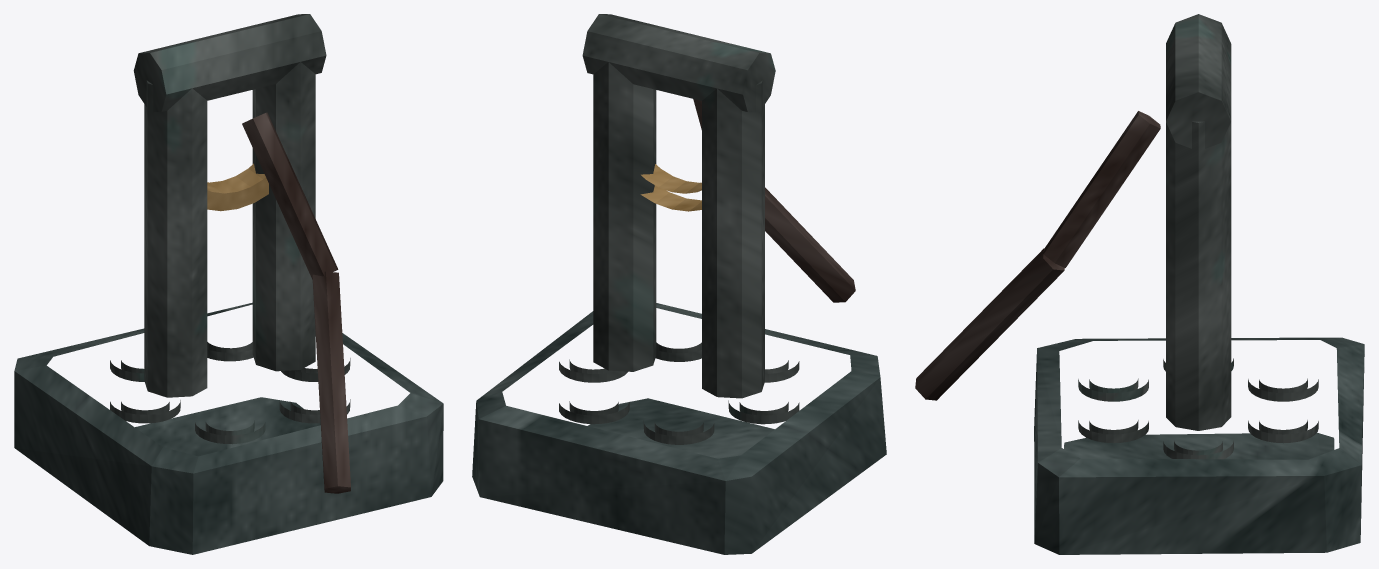
Rendered from 0685_rope_anchor_10.glb.
The picture shows the model from 3 angles, left to right: view 1: azimuth 30°, elevation 25°; view 2: azimuth 150°, elevation 25°; view 3: azimuth 270°, elevation 25°; orthographic projection.
Parts seen in each view (by area): view 1: stone_dark, iron, wood_dark, brass; view 2: iron, stone_dark, wood_dark, brass; view 3: stone_dark, iron, wood_dark.
Part boxes in pixels (x1,y1,x2,y2): stone_dark: (14, 302, 443, 554); iron: (110, 14, 350, 444); wood_dark: (242, 112, 350, 493); brass: (207, 163, 268, 211); iron: (559, 14, 799, 444); stone_dark: (472, 303, 886, 554); wood_dark: (693, 99, 855, 302); brass: (640, 164, 701, 211); stone_dark: (1034, 337, 1364, 554); iron: (1078, 14, 1318, 459); wood_dark: (915, 111, 1160, 400).
Bounding box in the file's own units: 1.22 × 1.78 × 1.65.
Materials: 4 (4 with a texture image).
